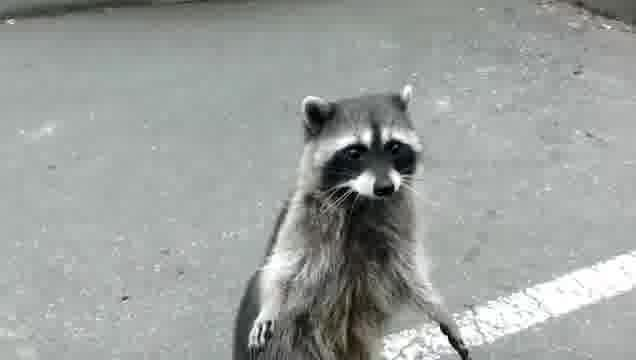raccoon: (228, 80, 475, 360)
